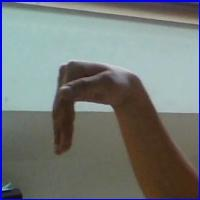A: (51, 54, 142, 161)
